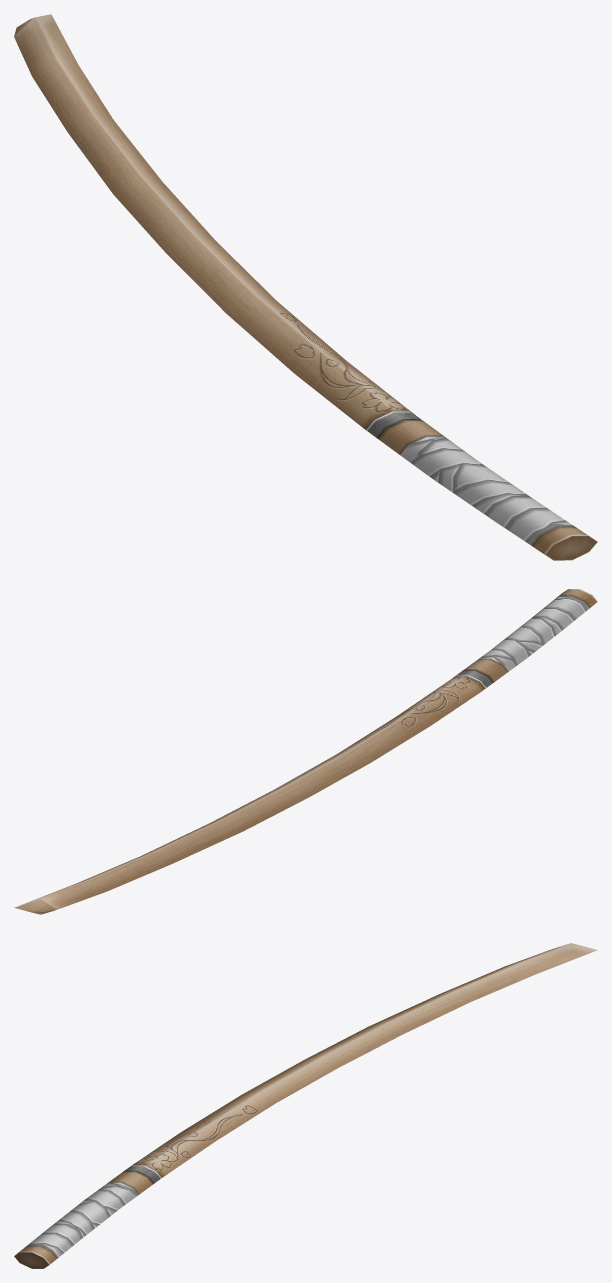
The model's file is sword_katsuie_bokutou_bokutou_rhand.glb.
3 renders of one model, top to bottom at view 1: azimuth 30°, elevation 25°; view 2: azimuth 150°, elevation 25°; view 3: azimuth 330°, elevation 25°, orthographic. The views are drawn at different scales.
Bounding box in the file's own units: 0.1761 × 0.0216 × 1.09.
Materials: 1 (1 with a texture image).
